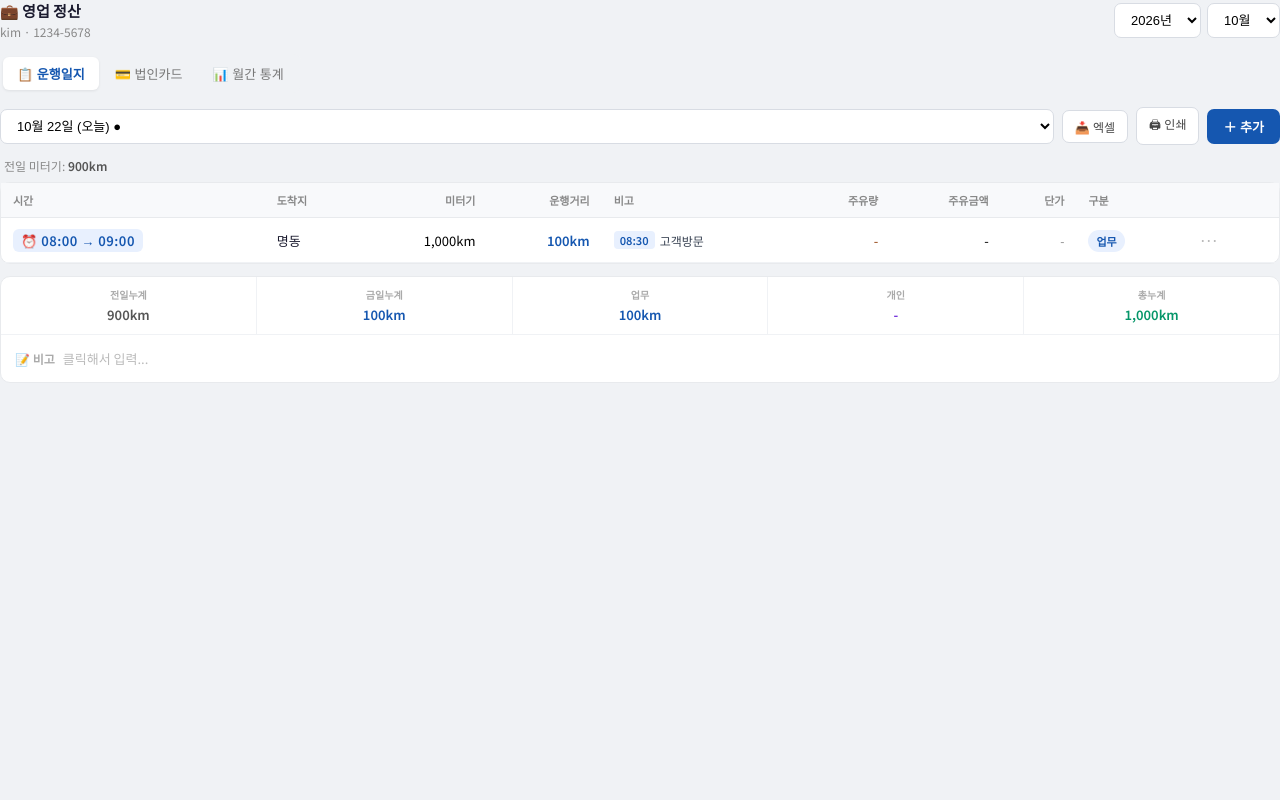
영업 정산 – 입력 가능 날짜 › 법인카드 – 범위 안이라도 잠긴 주 날짜면 저장 안 됨
Click the button "💳 법인카드".
click(149, 74)  # box top-left (101, 57), bottom-right (196, 90)
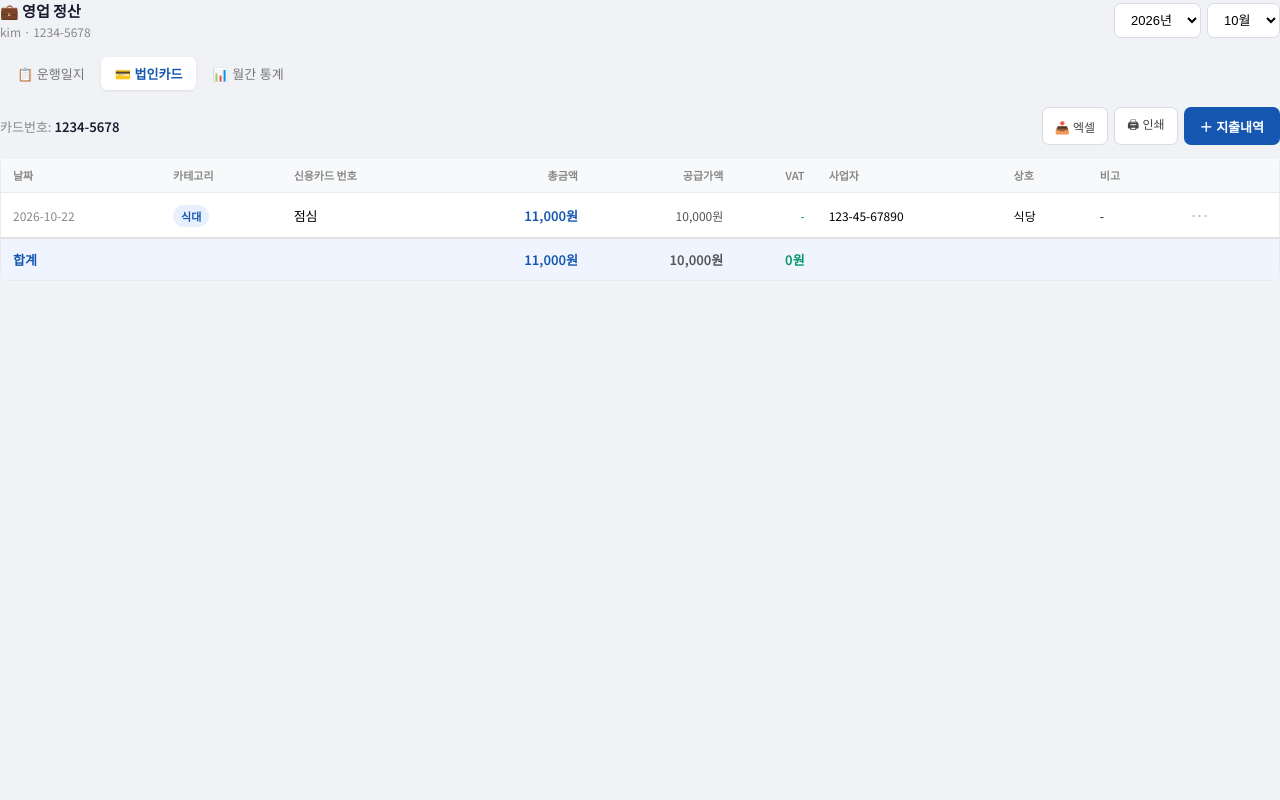
Click the button "＋ 지출내역".
click(1232, 126)  # box top-left (1184, 107), bottom-right (1279, 145)
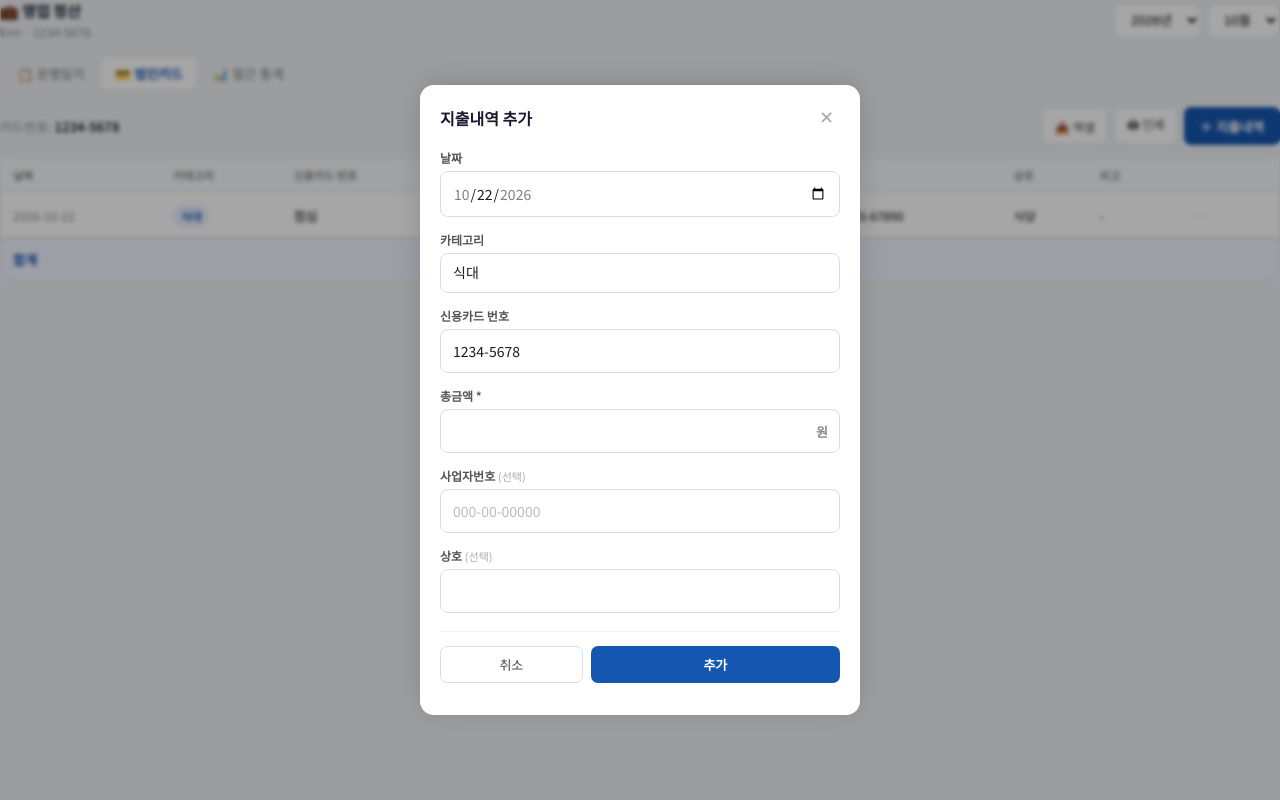
Expected: the element with class "sl-modal" is shown, top-left (420, 85), bottom-right (860, 715)
Type "2026-10-14" into the date field.
click(640, 194); type("2026-10-14")  # box top-left (440, 171), bottom-right (840, 217)
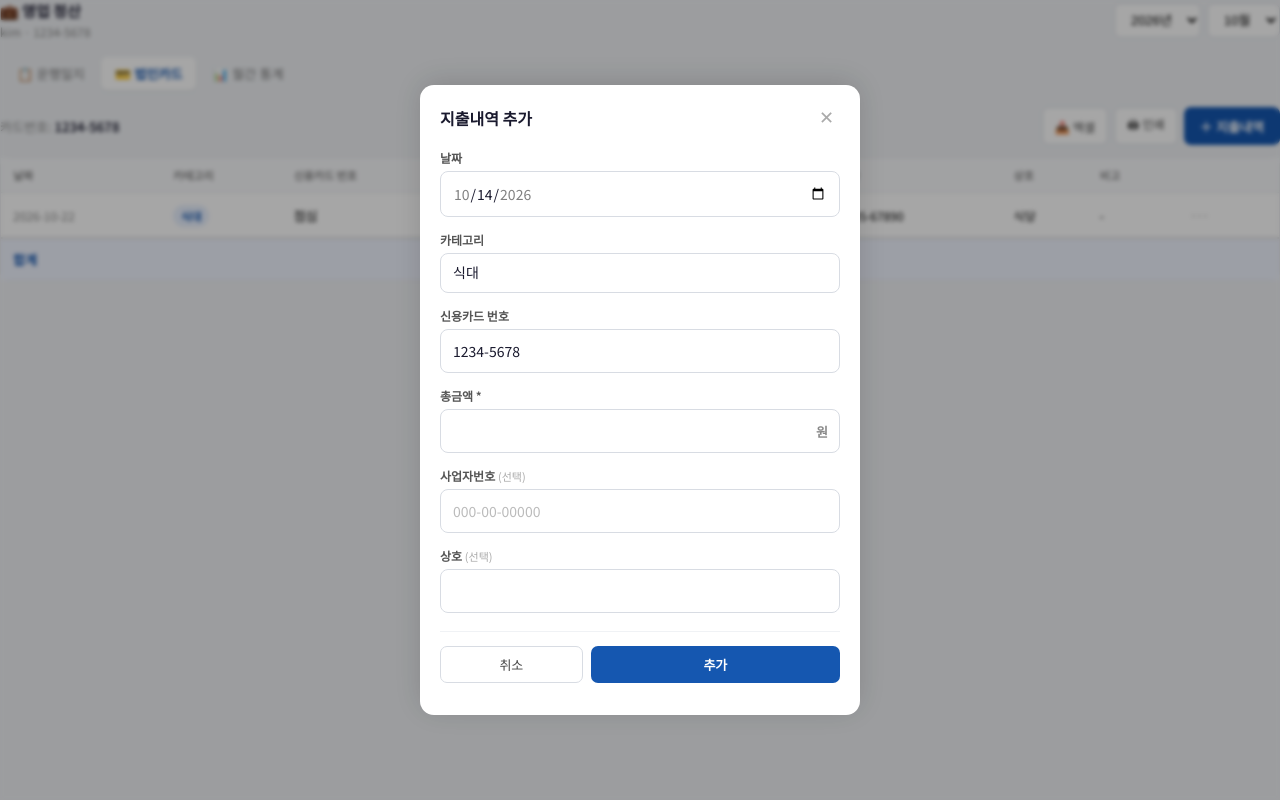
Type "5000" into the number field.
click(640, 431); type("5000")  # box top-left (440, 409), bottom-right (840, 453)
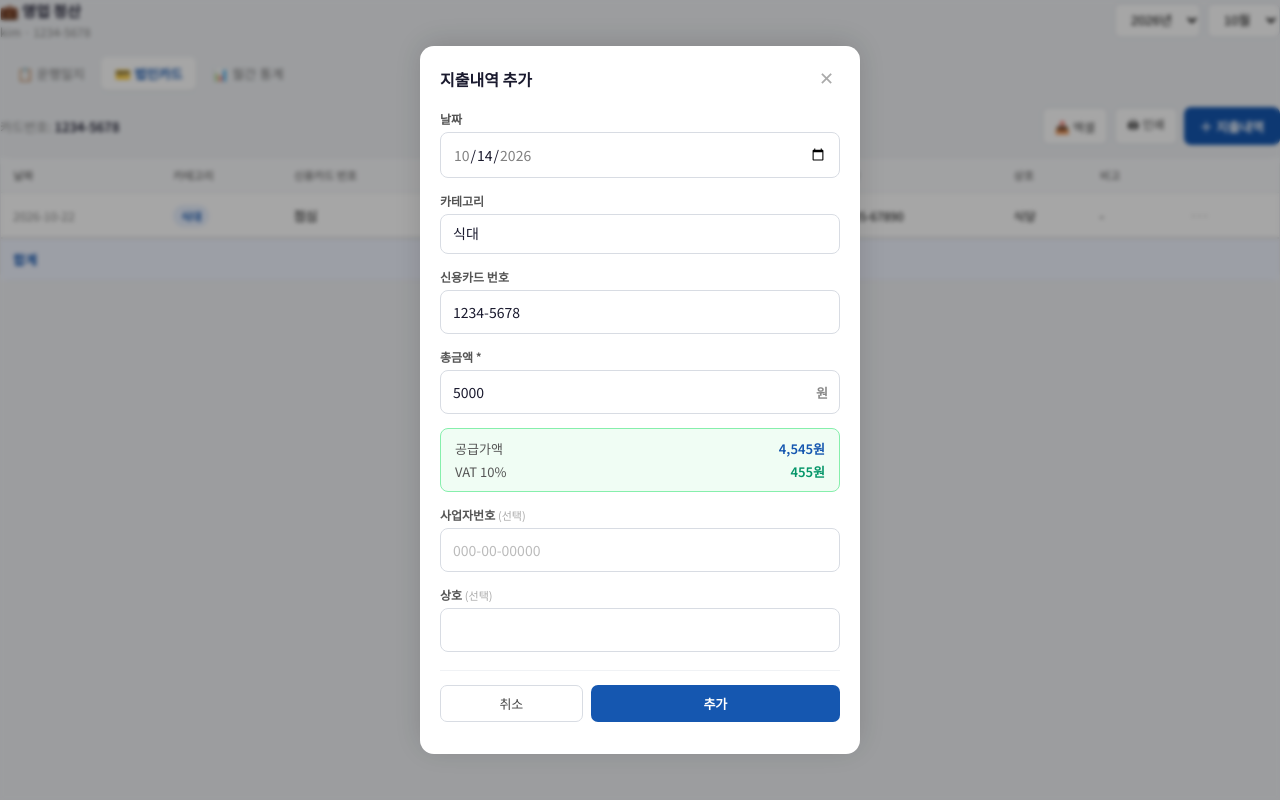
Submit the form, box top-left (440, 110), bottom-right (840, 722)
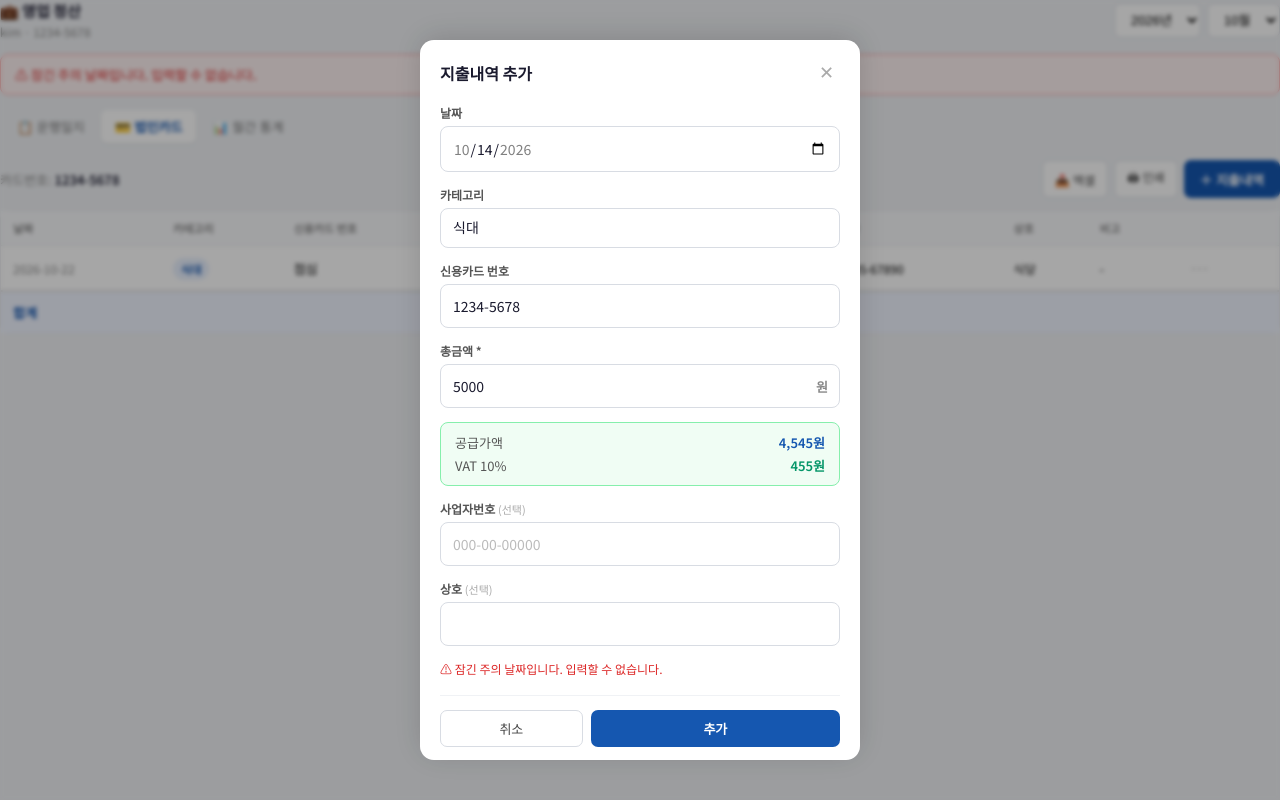
Expected: the element with class "sl-modal" shows "잠긴 주의 날짜입니다", top-left (455, 660), bottom-right (662, 677)
